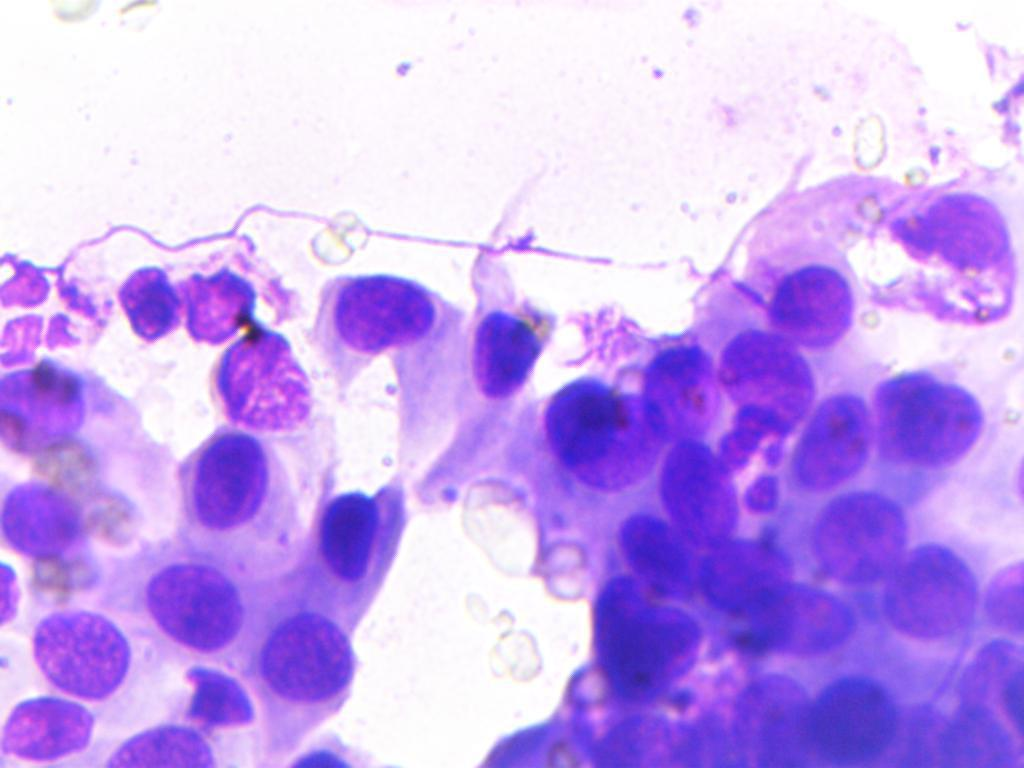artifact: (896, 180, 1011, 283)
epithelial: (869, 361, 1003, 505), (308, 263, 458, 376), (153, 426, 272, 556), (735, 225, 857, 346), (18, 597, 138, 702), (882, 538, 992, 641), (145, 552, 252, 655), (734, 588, 863, 673), (259, 604, 359, 710), (0, 363, 102, 460), (793, 386, 879, 494), (812, 494, 907, 590), (6, 692, 93, 762), (100, 721, 222, 768)
lymphocyte: (204, 321, 322, 438), (180, 251, 258, 351), (117, 264, 194, 343)
metaplastic: (586, 574, 711, 708), (294, 460, 394, 612), (648, 430, 751, 557), (717, 323, 822, 443), (603, 507, 702, 616), (796, 664, 904, 762), (0, 470, 94, 577), (637, 336, 727, 446), (470, 296, 546, 416), (546, 362, 619, 482)
